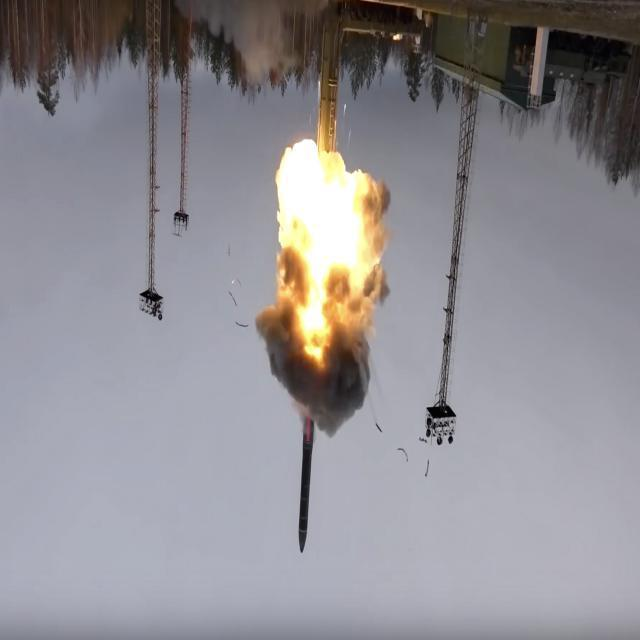Missile: (294, 413, 319, 569)
